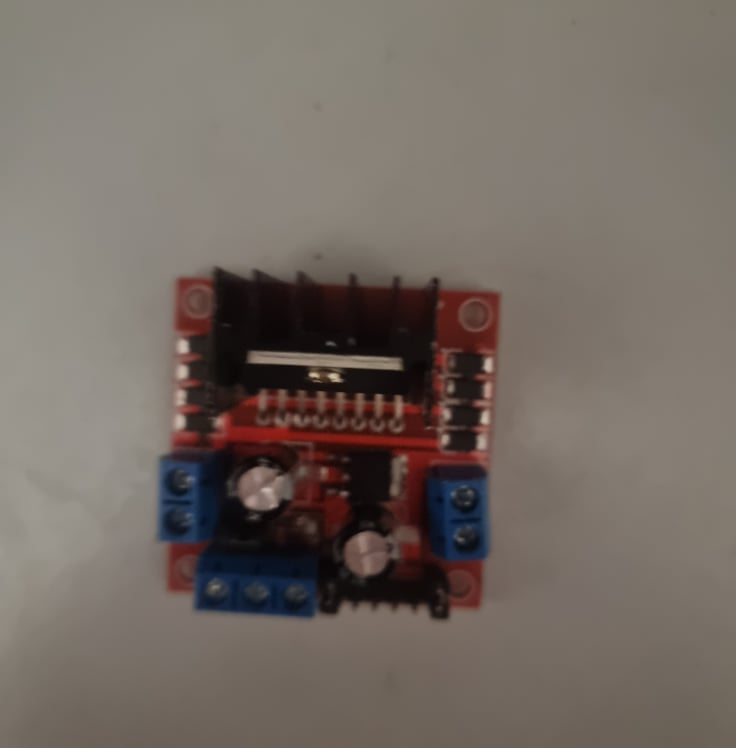MOTOR: (154, 263, 498, 630)
